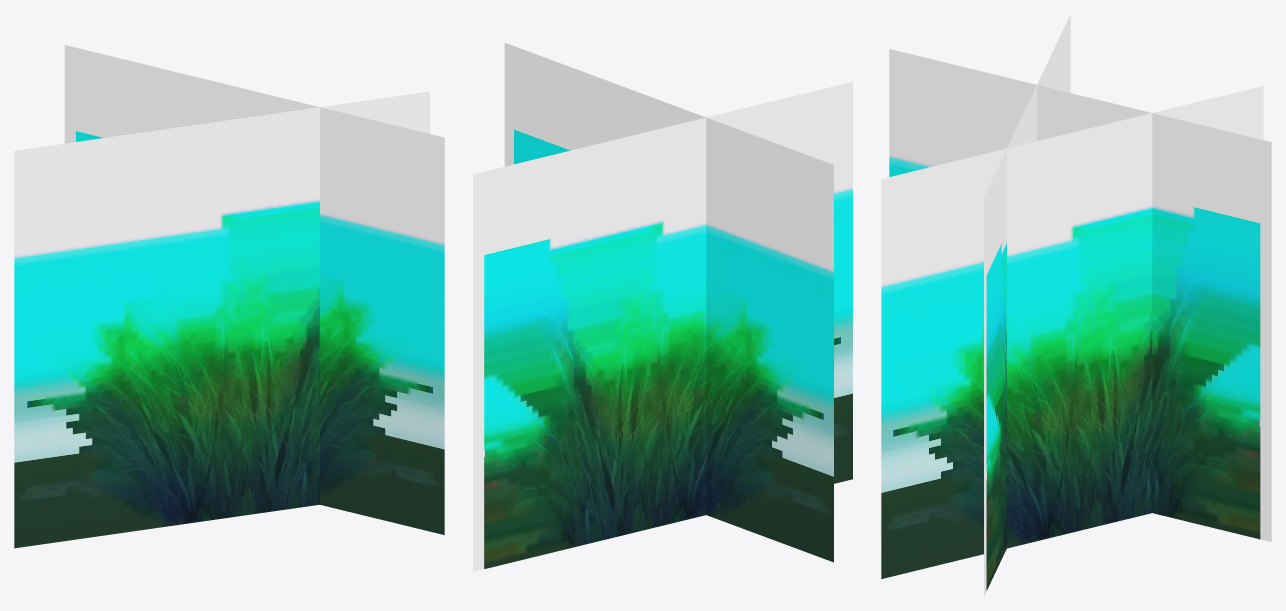
File: grass_emision.glb
The picture shows the model from 3 angles, left to right: view 1: azimuth 30°, elevation 25°; view 2: azimuth 150°, elevation 25°; view 3: azimuth 270°, elevation 25°; orthographic projection.
Visible parts, largest first — view 1: Grass; view 2: Grass; view 3: Grass.
Part boxes in pixels (x1,y1,x2,y2): Grass: [14, 45, 444, 548]; Grass: [473, 43, 852, 571]; Grass: [881, 14, 1271, 596].
Bounding box in the file's own units: 1.96 × 2 × 1.77.
Materials: 1 (1 with a texture image).
